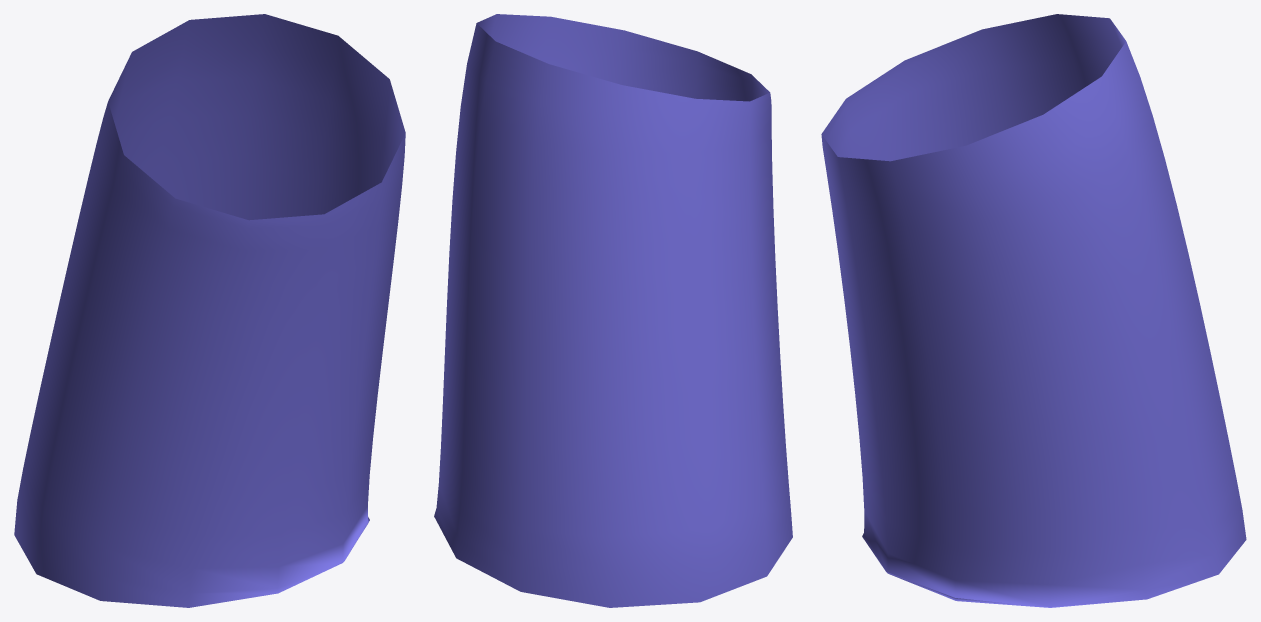
File: Superior_vena_cava.glb
3 views of the same model, side by side, from view 1: azimuth 30°, elevation 25°; view 2: azimuth 150°, elevation 25°; view 3: azimuth 270°, elevation 25° (orthographic). The views are drawn at different scales.
Parts seen in each view (by area): view 1: Superior_vena_cava_BezierCurve.272; view 2: Superior_vena_cava_BezierCurve.272; view 3: Superior_vena_cava_BezierCurve.272.
Boxes of the visible parts, bbox=[...] form: Superior_vena_cava_BezierCurve.272: bbox=[14, 14, 405, 607]; Superior_vena_cava_BezierCurve.272: bbox=[434, 14, 792, 607]; Superior_vena_cava_BezierCurve.272: bbox=[821, 14, 1246, 607].
Bounding box in the file's own units: 0.0255 × 0.0376 × 0.0276.
